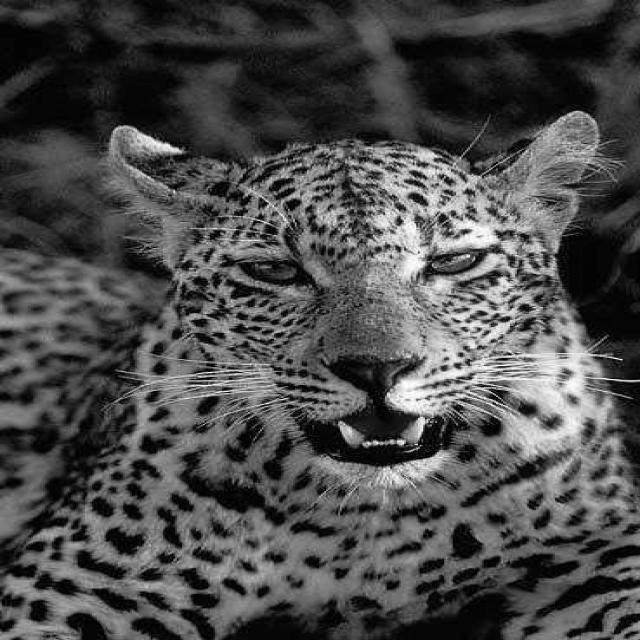Leopard: (56, 125, 504, 624)
